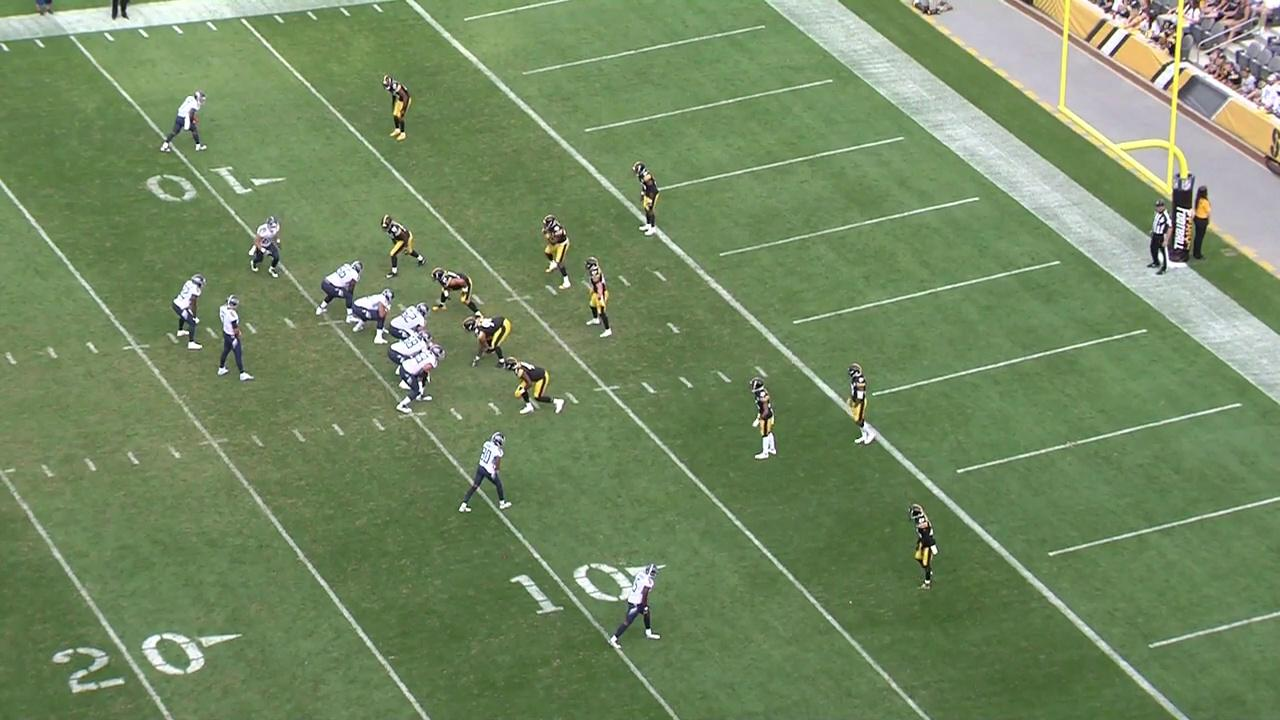player: (607, 560, 667, 652), (458, 431, 513, 511), (501, 360, 566, 419), (215, 291, 253, 385), (396, 346, 444, 419), (379, 214, 430, 280), (317, 259, 367, 322), (161, 89, 204, 158), (244, 214, 286, 282), (430, 268, 484, 320), (459, 312, 509, 368), (907, 501, 937, 593), (173, 273, 207, 354), (746, 380, 778, 463), (349, 288, 393, 348), (540, 214, 571, 292), (387, 328, 434, 377), (584, 255, 609, 344), (848, 362, 873, 447), (381, 75, 412, 143), (388, 299, 433, 343), (636, 159, 657, 238)
ref: (1143, 199, 1174, 276)
